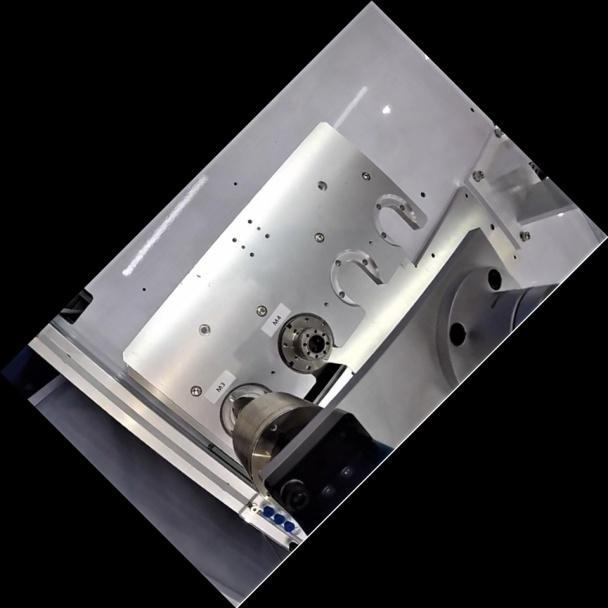hole: (194, 317, 214, 338), (313, 176, 329, 192)
